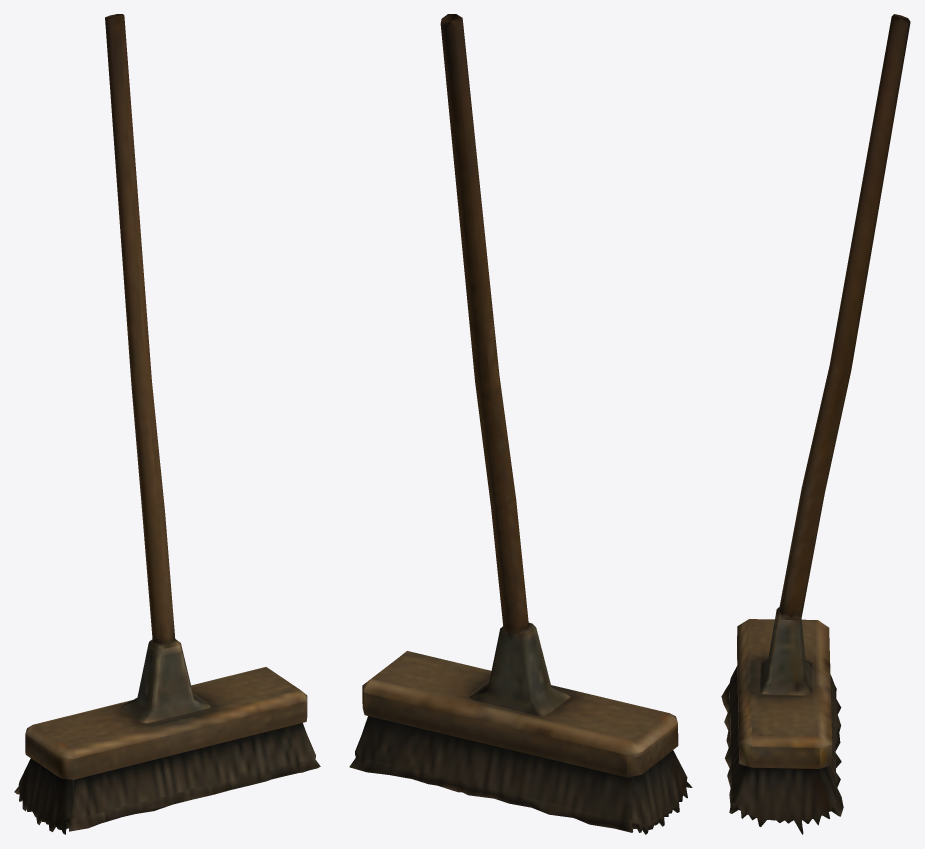
The model's file is safety_push_broom.fbx.
The picture shows the model from 3 angles, left to right: view 1: azimuth 30°, elevation 25°; view 2: azimuth 150°, elevation 25°; view 3: azimuth 270°, elevation 25°; orthographic projection. The views are drawn at different scales.
Parts seen in each view (by area): view 1: safety_push_broom; view 2: safety_push_broom; view 3: safety_push_broom.
Boxes of the visible parts, x1,y1,x2,y2 form: safety_push_broom: [14, 14, 320, 834]; safety_push_broom: [349, 14, 692, 834]; safety_push_broom: [721, 14, 910, 834].
Size of the model in its own units: 79.12 by 215 by 48.68.
